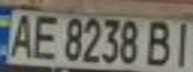2: (78, 13, 103, 64)
3: (100, 15, 124, 64)
8: (118, 16, 145, 65), (57, 14, 84, 63)
A: (3, 10, 39, 60)
B: (142, 17, 178, 68)
E: (27, 11, 60, 61)
I: (166, 18, 193, 68)
